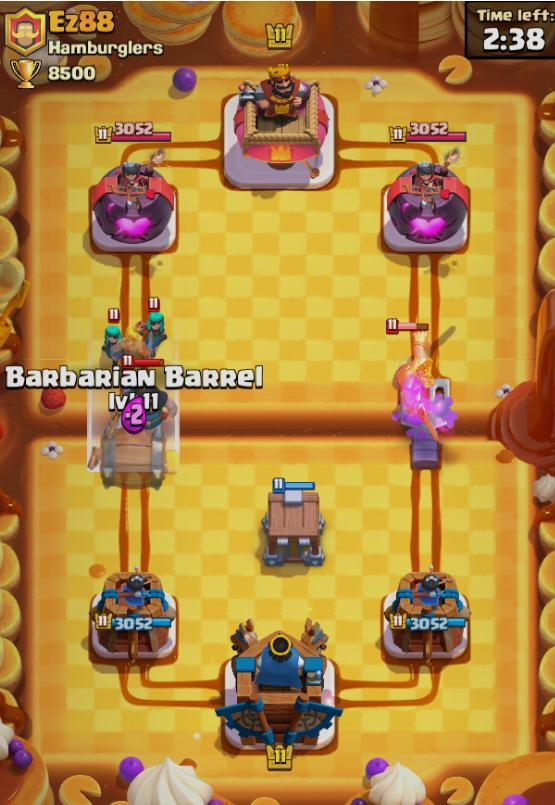EArcherRascal: (101, 308, 133, 361), (135, 310, 166, 356)
EBigRascal: (109, 366, 176, 427)
EKingTower: (223, 66, 335, 189)
ERoyalKnight: (387, 320, 455, 432)
EnemyPrincessTower: (382, 163, 469, 253), (90, 161, 175, 253)
OGoblinCage: (261, 478, 324, 567)
OwnKingTower: (216, 620, 341, 750)
OwnPrincessTower: (89, 570, 176, 662), (383, 570, 469, 661)
